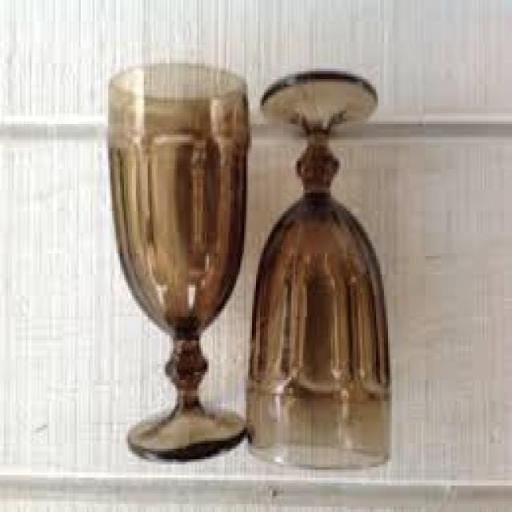glass: (90, 48, 256, 486), (244, 77, 392, 472)
